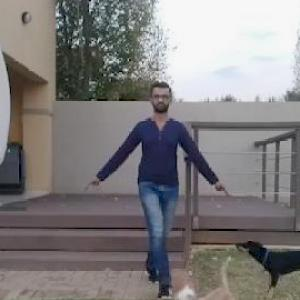land: (111, 96, 202, 266)
